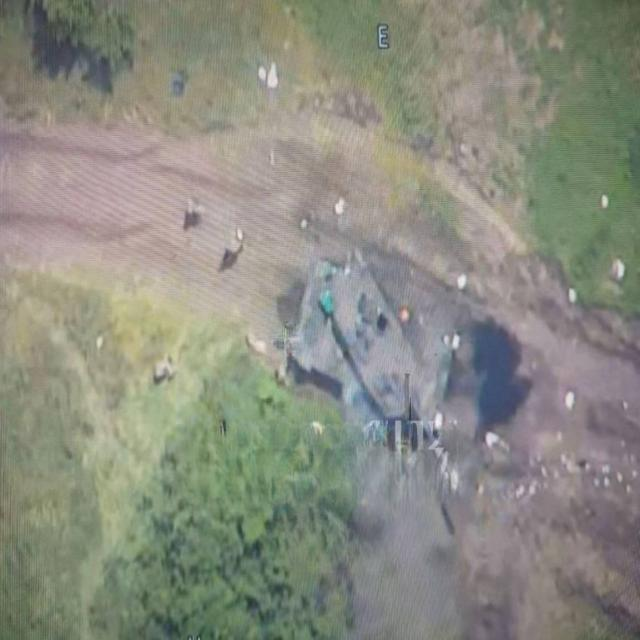MBT: (286, 254, 461, 497)
